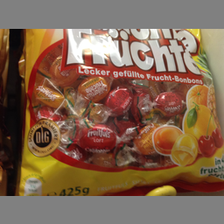candy: (25, 30, 222, 194)
